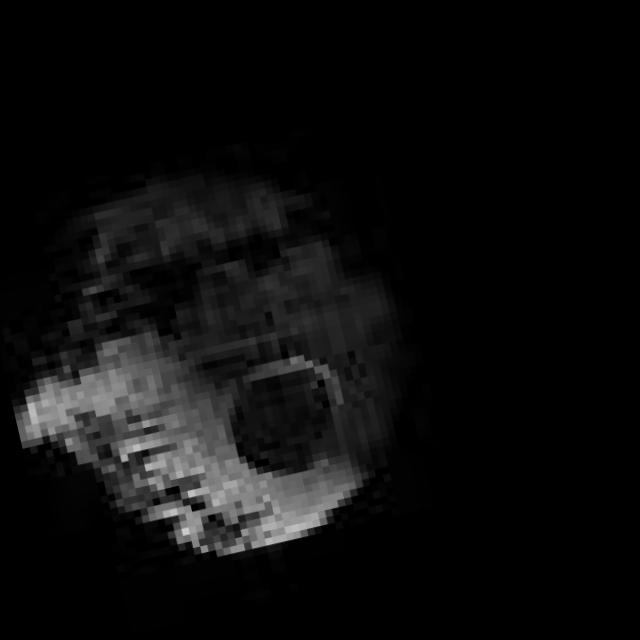Death Star: (0, 118, 465, 612)
